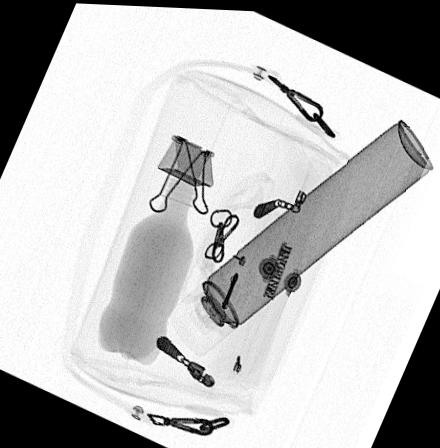Sprayer: (167, 113, 434, 357)
